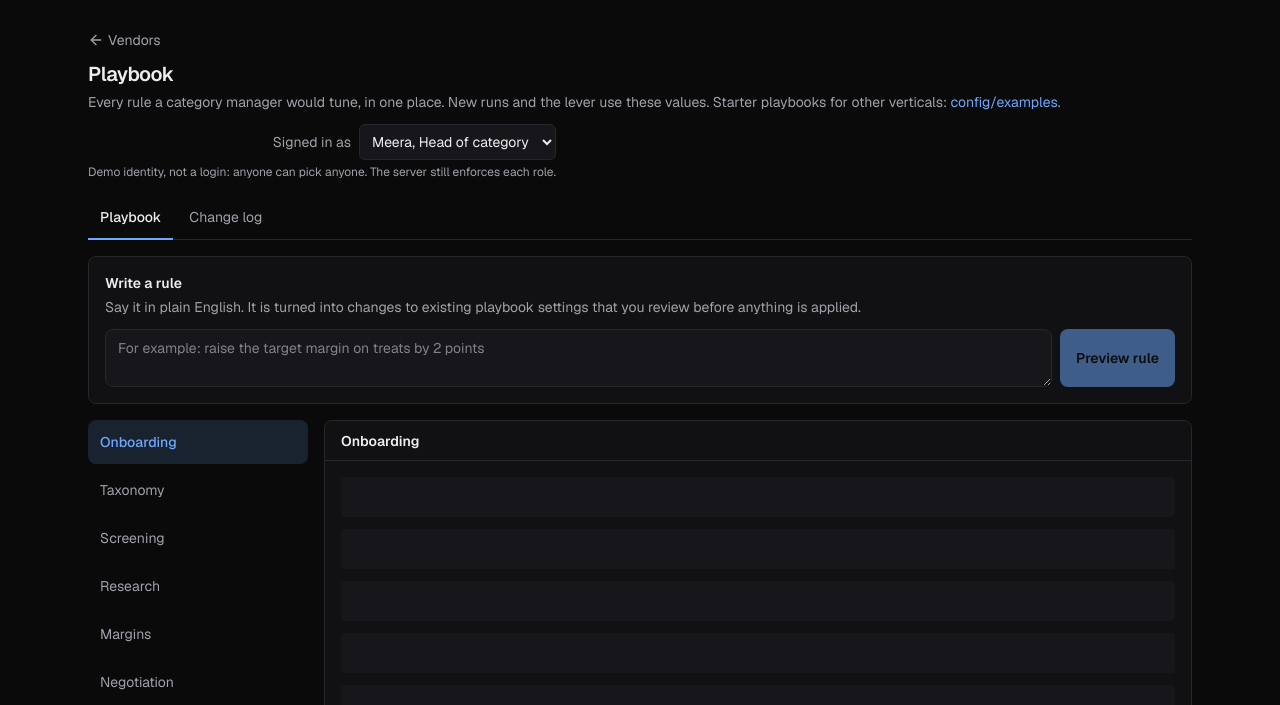
Write a rule and the change log › shows the refusal from the server when an apply is not allowed
This screenshot has width=1280, height=705.
Type "raise treats by 2" into the text box named "Describe a rule" at [578, 358], box [105,329,1052,387]
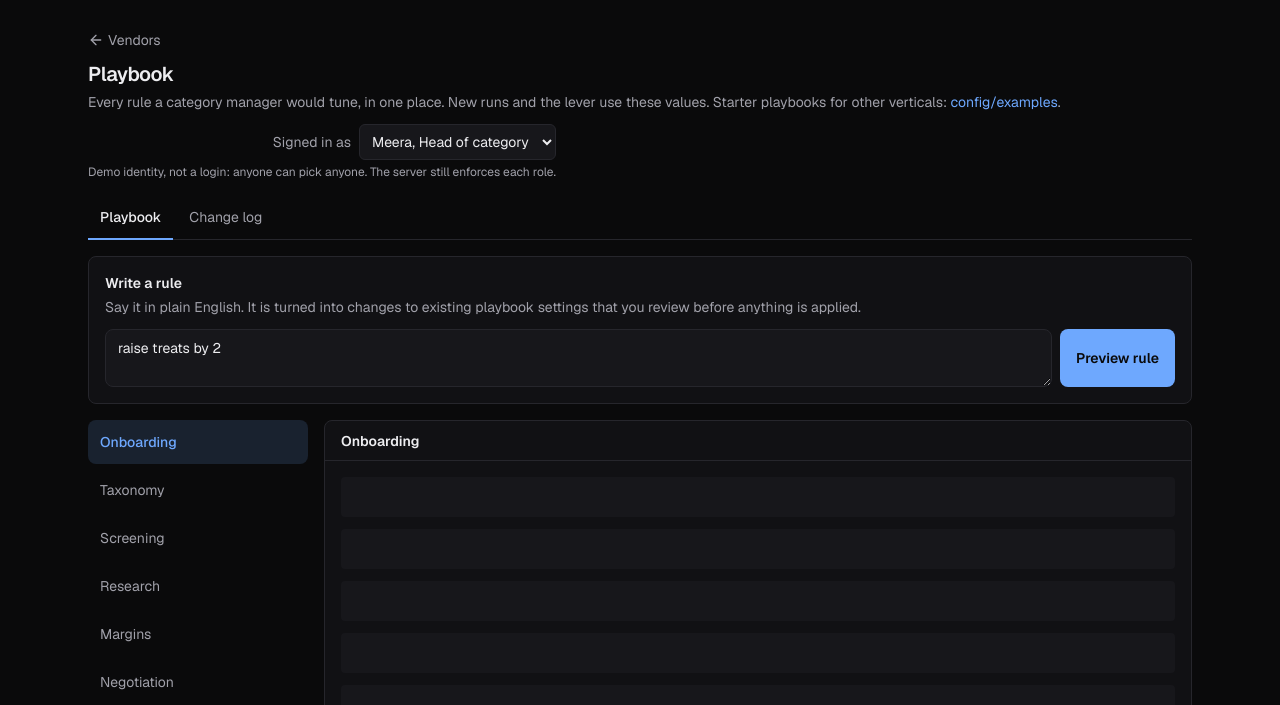
Click the button "Preview rule" at [1118, 358], box [1060,329,1175,387]
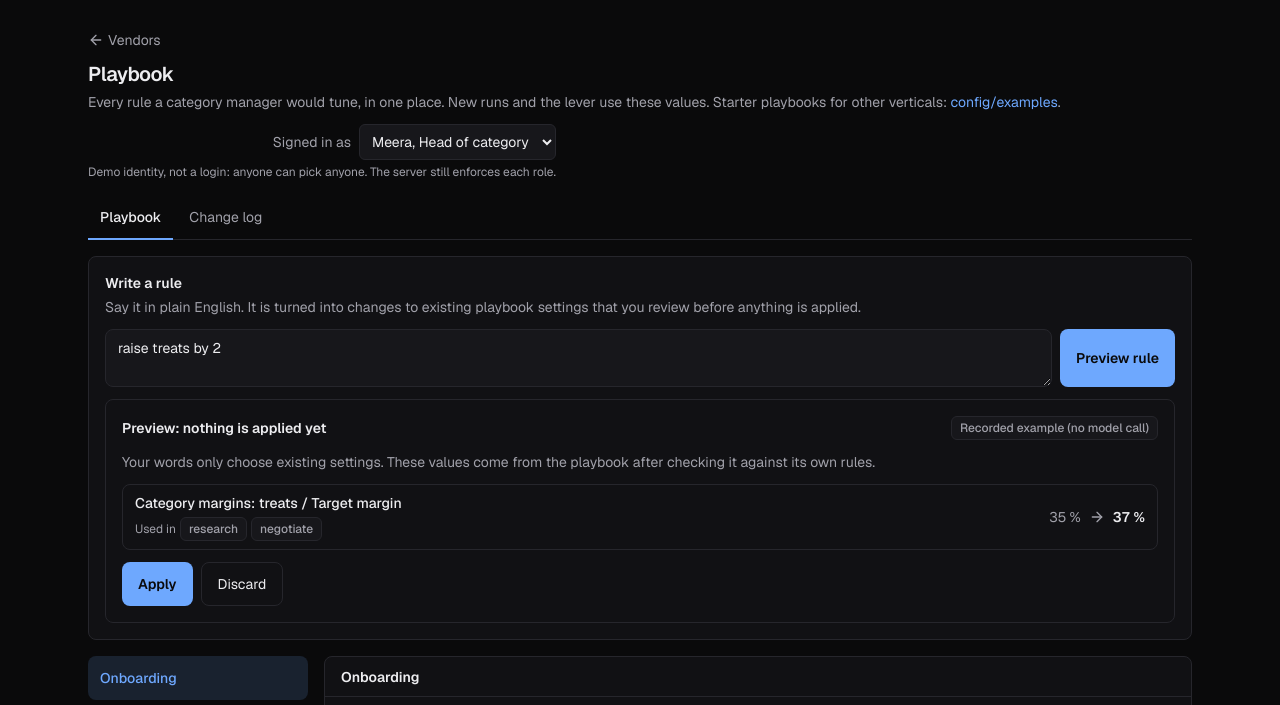
Click the button "Apply" at [157, 584], box [122,562,192,606]
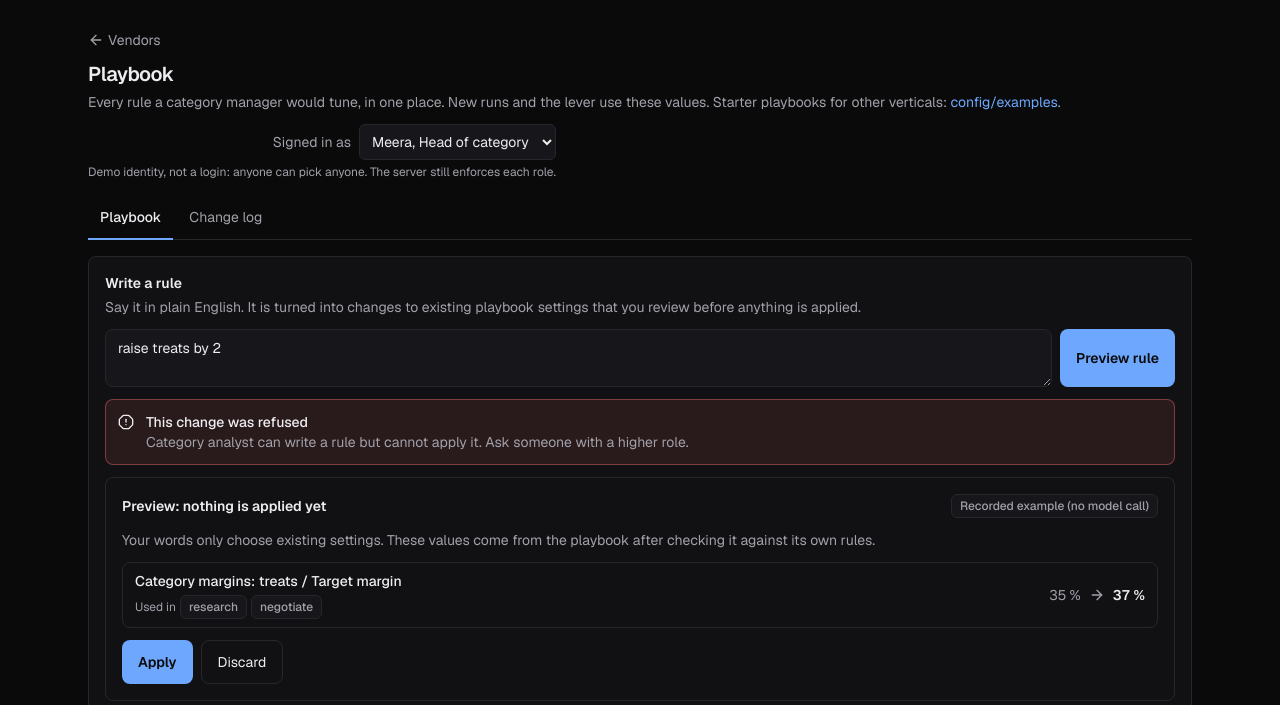
Now the text "This change was refused" is shown, box [146,413,308,431]
Now the text "cannot apply it. Ask someone with a higher role." is shown, box [146,433,689,451]
